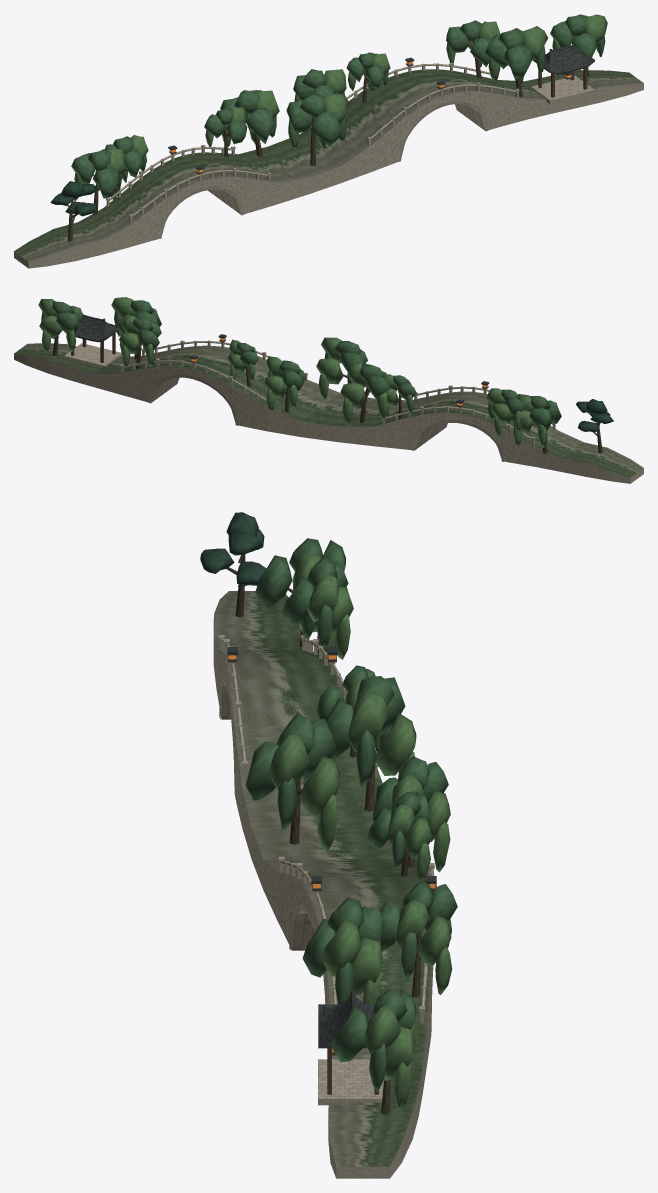
Rendered from jiangnan_su_causeway_horizon.glb.
3 views of the same model, one above another, from view 1: azimuth 30°, elevation 25°; view 2: azimuth 150°, elevation 25°; view 3: azimuth 270°, elevation 25° (orthographic). The views are drawn at different scales.
Parts seen in each view (by area): view 1: jiangnan_su_causeway_horizon; view 2: jiangnan_su_causeway_horizon; view 3: jiangnan_su_causeway_horizon.
Boxes of the visible parts, bbox=[...] form: jiangnan_su_causeway_horizon: bbox=[14, 14, 643, 268]; jiangnan_su_causeway_horizon: bbox=[14, 297, 643, 483]; jiangnan_su_causeway_horizon: bbox=[200, 512, 457, 1178].
Bounding box in the file's own units: 74 × 9.7 × 14.
Materials: 2 (2 with a texture image).
